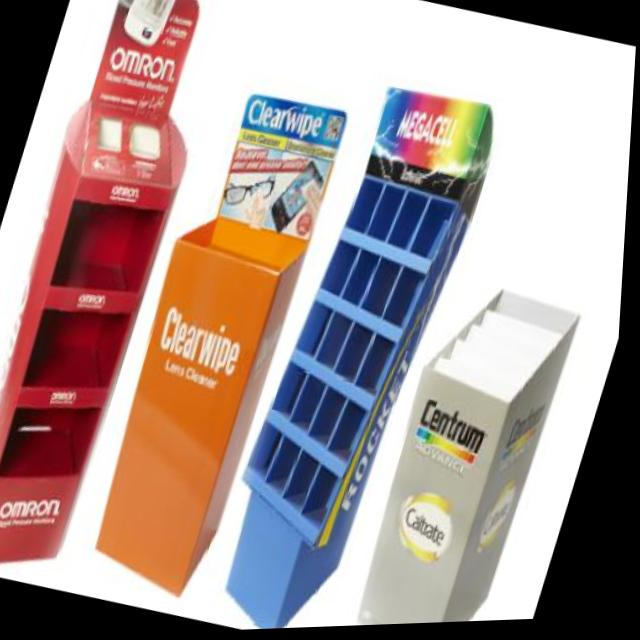box: (204, 52, 514, 633), (74, 36, 369, 624), (0, 0, 246, 594), (344, 265, 600, 629)
